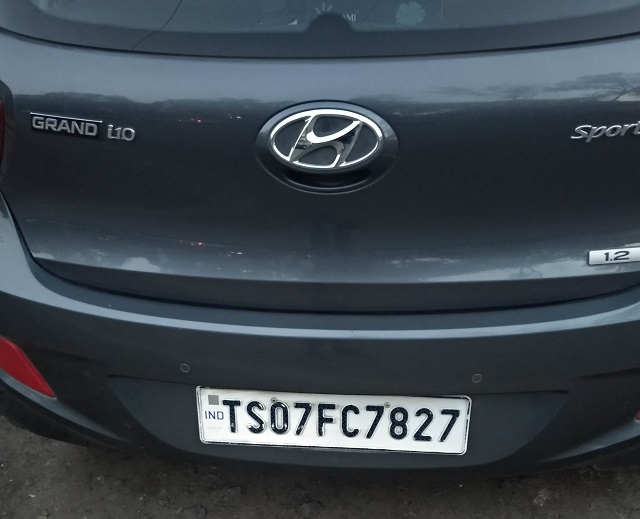licenseplate: (195, 377, 471, 456)
